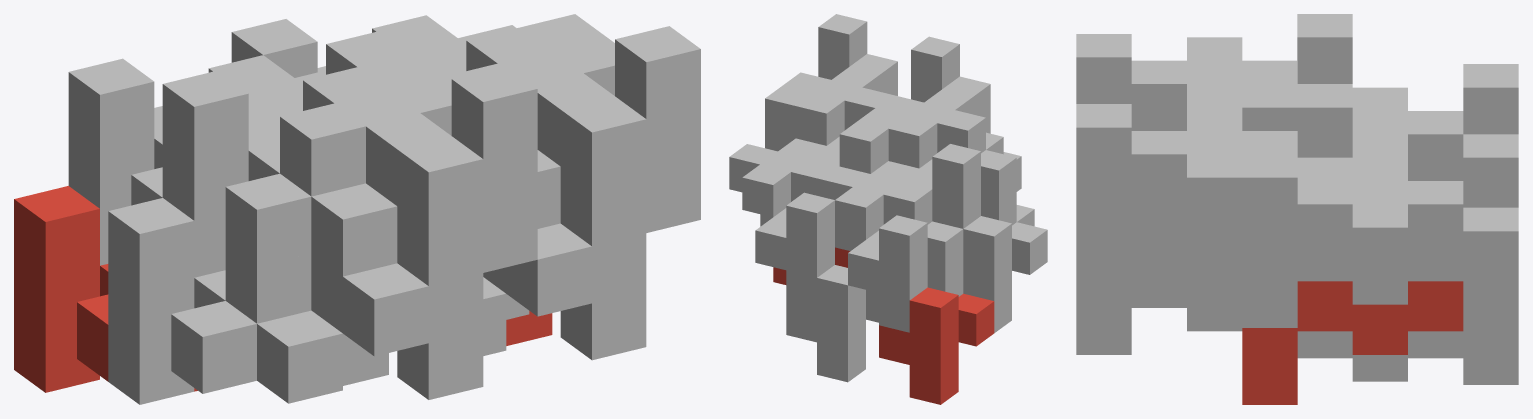
Rendered from tiling.obj.
3 views of the same model, side by side, from view 1: azimuth 30°, elevation 25°; view 2: azimuth 150°, elevation 25°; view 3: azimuth 270°, elevation 25° (orthographic). The views are drawn at different scales.
Visible parts, largest first — view 1: copy_2_domain_4, copy_1_domain_2, copy_2_domain_8, copy_1_domain_4, copy_2_domain_2, copy_2_domain_6, copy_1_domain_1, copy_1_domain_3, copy_2_domain_3, copy_2_domain_7, copy_1_domain_8, copy_1_domain_7 (+3 smaller); view 2: copy_2_domain_4, copy_2_domain_8, copy_1_domain_1, copy_1_domain_3, copy_2_domain_7, copy_1_domain_7, copy_2_domain_3, copy_1_domain_2, copy_1_domain_5, copy_1_domain_4, copy_1_domain_8, copy_2_domain_2 (+2 smaller); view 3: copy_2_domain_7, copy_2_domain_8, copy_1_domain_7, copy_2_domain_4, copy_2_domain_5, copy_2_domain_3, copy_2_domain_6, copy_1_domain_5, copy_1_domain_8, copy_1_domain_3, copy_1_domain_4, copy_1_domain_6.
Part boxes in pixels (<box>): copy_2_domain_4: <box>280,66,537,272</box>; copy_1_domain_2: <box>108,198,365,404</box>; copy_2_domain_8: <box>443,26,700,232</box>; copy_1_domain_4: <box>162,71,397,277</box>; copy_2_domain_2: <box>225,206,483,399</box>; copy_2_domain_6: <box>483,167,646,360</box>; copy_1_domain_1: <box>14,186,197,392</box>; copy_1_domain_3: <box>68,58,162,265</box>; copy_2_domain_3: <box>208,54,442,119</box>; copy_2_domain_7: <box>372,14,605,76</box>; copy_1_domain_8: <box>326,31,560,228</box>; copy_1_domain_7: <box>231,19,325,77</box>; copy_2_domain_4: <box>876,36,990,168</box>; copy_2_domain_8: <box>783,14,897,145</box>; copy_1_domain_1: <box>879,287,994,404</box>; copy_1_domain_3: <box>848,215,963,332</box>; copy_2_domain_7: <box>729,85,839,217</box>; copy_1_domain_7: <box>755,192,852,309</box>; copy_2_domain_3: <box>822,108,932,239</box>; copy_1_domain_2: <box>963,205,1047,332</box>; copy_1_domain_5: <box>786,265,878,382</box>; copy_1_domain_4: <box>902,132,1016,228</box>; copy_1_domain_8: <box>809,121,888,173</box>; copy_2_domain_2: <box>981,116,1021,225</box>; copy_2_domain_7: <box>1242,154,1463,327</box>; copy_2_domain_8: <box>1076,104,1297,277</box>; copy_1_domain_7: <box>1297,134,1518,307</box>; copy_2_domain_4: <box>1076,34,1297,130</box>; copy_2_domain_5: <box>1242,281,1463,404</box>; copy_2_domain_3: <box>1242,84,1463,180</box>; copy_2_domain_6: <box>1076,231,1242,354</box>; copy_1_domain_5: <box>1297,308,1518,384</box>; copy_1_domain_8: <box>1131,84,1352,254</box>; copy_1_domain_3: <box>1463,64,1518,134</box>; copy_1_domain_4: <box>1297,14,1352,83</box>; copy_1_domain_6: <box>1131,281,1242,331</box>.
Bounding box in the file's own units: 8 × 7 × 8.
